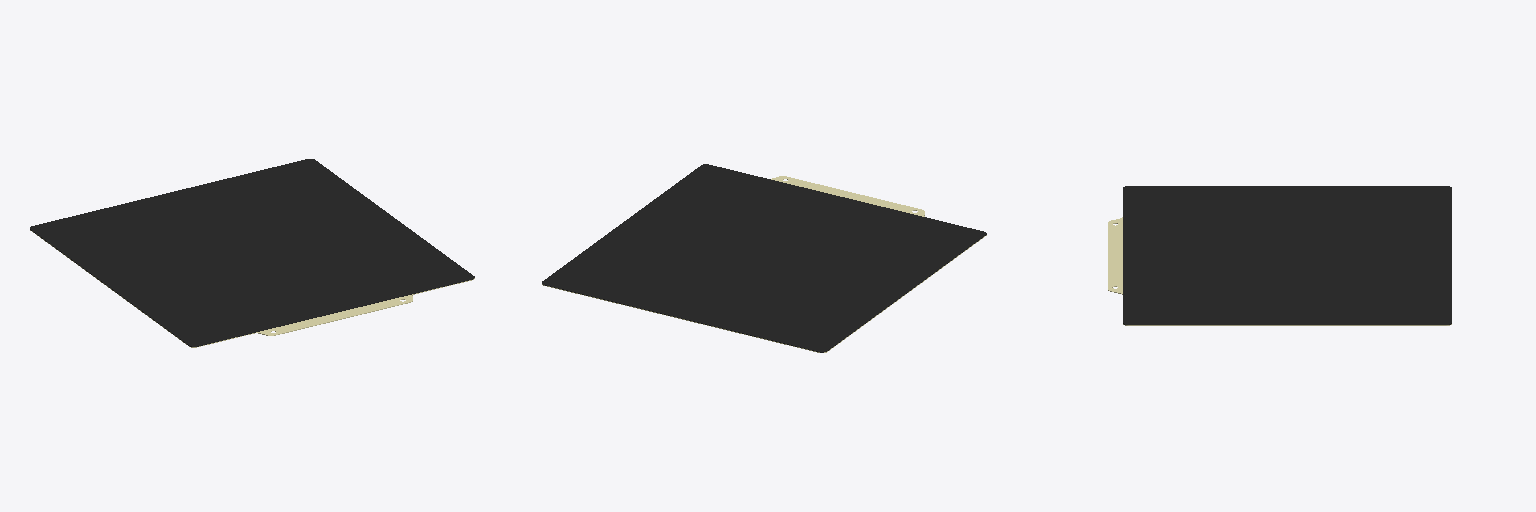
Rendered from bed_new.obj.
The picture shows the model from 3 angles: view 1: azimuth 30°, elevation 25°; view 2: azimuth 150°, elevation 25°; view 3: azimuth 270°, elevation 25°; orthographic projection.
Parts seen in each view (by area): view 1: Flexible heated bed plate PEI PET 210x210; view 2: Flexible heated bed plate PEI PET 210x210; view 3: Flexible heated bed plate PEI PET 210x210.
Boxes of the visible parts, x1=… form: Flexible heated bed plate PEI PET 210x210: x1=30, y1=159, x2=474, y2=347; Flexible heated bed plate PEI PET 210x210: x1=542, y1=164, x2=986, y2=352; Flexible heated bed plate PEI PET 210x210: x1=1108, y1=186, x2=1451, y2=325.
Size of the model in its own units: 220 by 0.8 by 230.